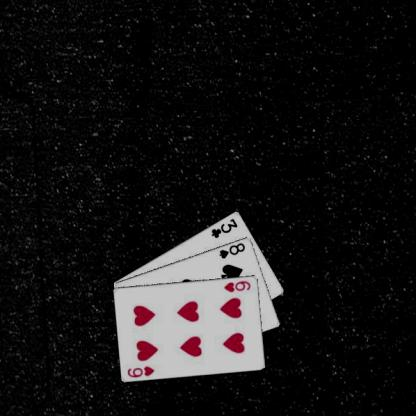3C: (209, 216, 238, 239)
6H: (222, 278, 252, 293), (125, 364, 155, 378)
8S: (216, 240, 246, 260)
